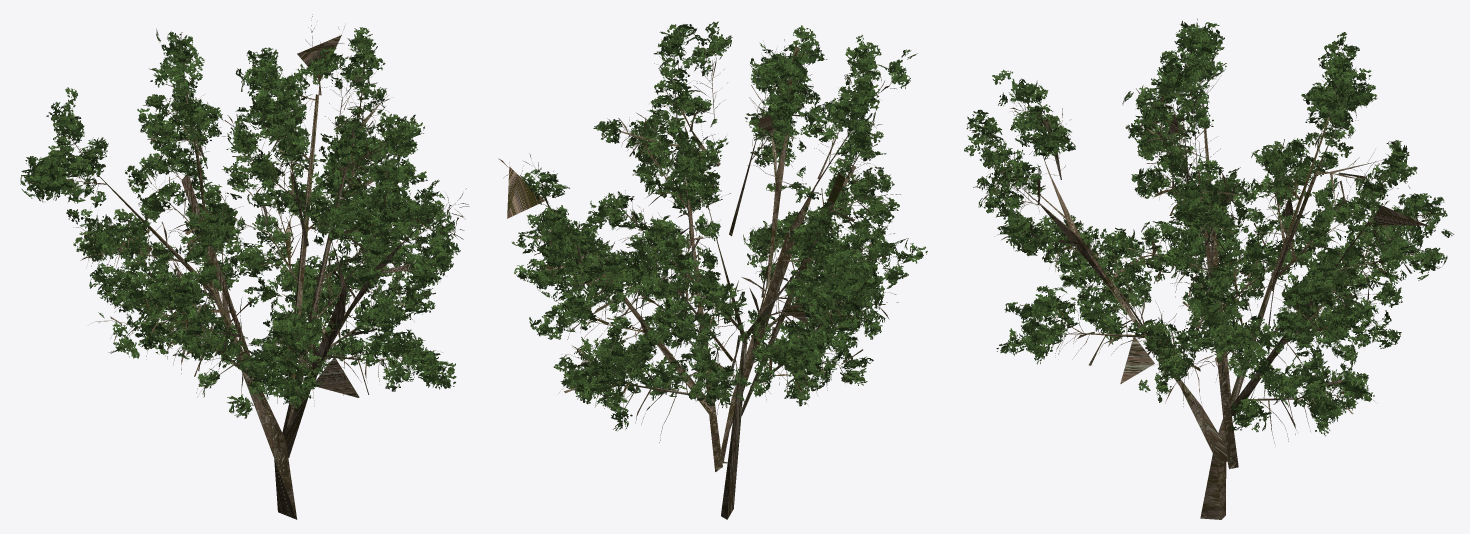
Rendered from prop_tree_birch_real.glb.
The picture shows the model from 3 angles, left to right: view 1: azimuth 30°, elevation 25°; view 2: azimuth 150°, elevation 25°; view 3: azimuth 270°, elevation 25°; orthographic projection. The views are drawn at different scales.
Visible parts, largest first — view 1: individual_birch_leaves, tree; view 2: individual_birch_leaves, tree; view 3: individual_birch_leaves, tree.
Part boxes in pixels (x1,y1,x2,y2): individual_birch_leaves: (20, 27, 460, 418); tree: (27, 14, 469, 519); individual_birch_leaves: (512, 21, 927, 431); tree: (498, 39, 907, 519); individual_birch_leaves: (964, 21, 1454, 436); tree: (971, 18, 1443, 519).
Size of the model in its own units: 11.54 by 13.84 by 13.05.
Materials: 2 (2 with a texture image).
